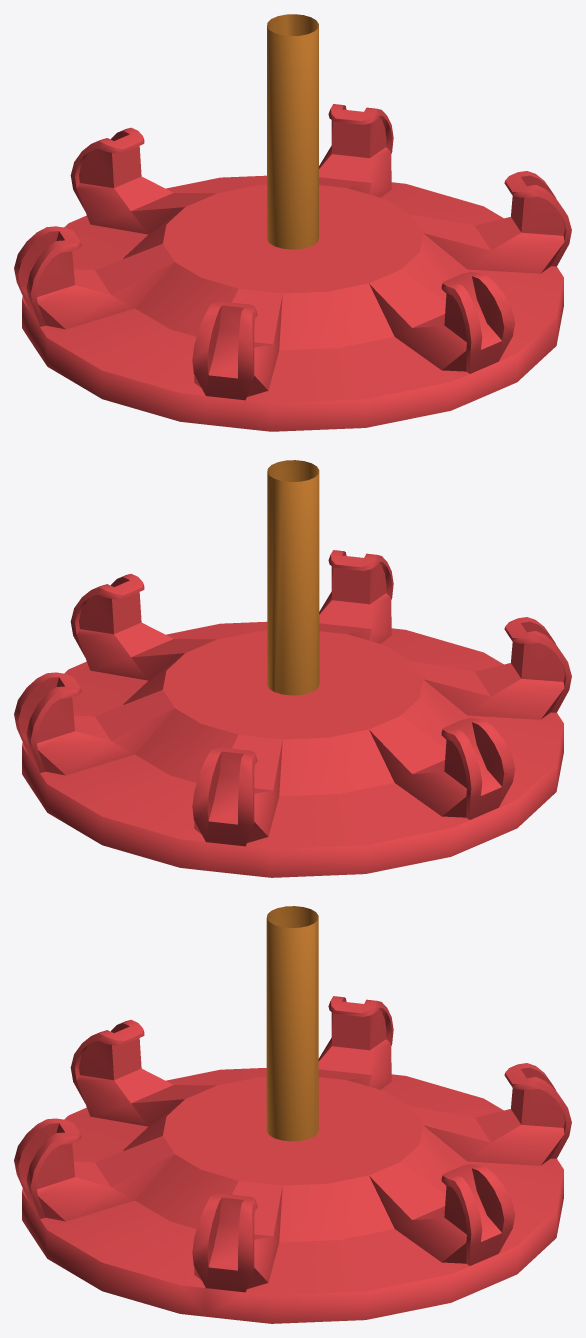
Rendered from shipgravlift.fbx.
3 renders of one model, top to bottom at view 1: azimuth 30°, elevation 25°; view 2: azimuth 150°, elevation 25°; view 3: azimuth 270°, elevation 25°, orthographic.
Visible parts, largest first — view 1: gravlift, gravlift2; view 2: gravlift, gravlift2; view 3: gravlift, gravlift2.
Part boxes in pixels (x1=…): gravlift: x1=14, y1=104, x2=571, y2=431; gravlift2: x1=267, y1=14, x2=318, y2=249; gravlift: x1=14, y1=550, x2=571, y2=877; gravlift2: x1=267, y1=460, x2=319, y2=695; gravlift: x1=14, y1=996, x2=571, y2=1323; gravlift2: x1=266, y1=906, x2=318, y2=1141.
Bounding box in the file's own units: 530976 × 305863 × 529573.
